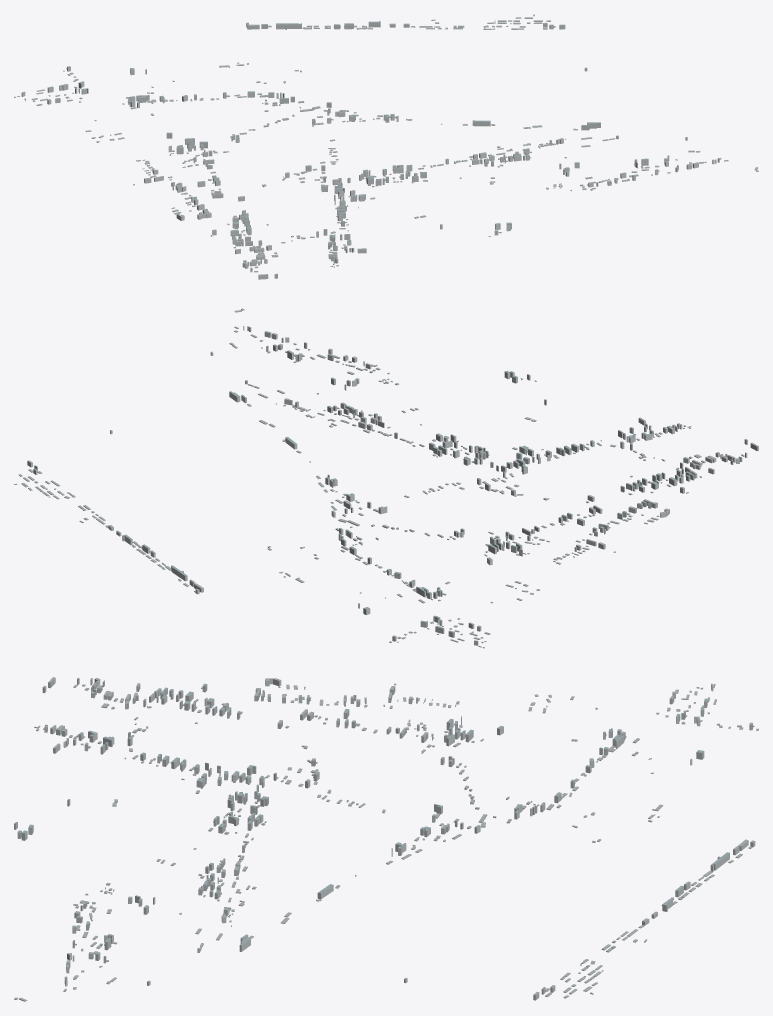
The model's file is far.glb.
3 views of the same model, one above another, from view 1: azimuth 30°, elevation 25°; view 2: azimuth 150°, elevation 25°; view 3: azimuth 270°, elevation 25° (orthographic). The views are drawn at different scales.
Size of the model in its own units: 2095 by 24.9 by 2066.
